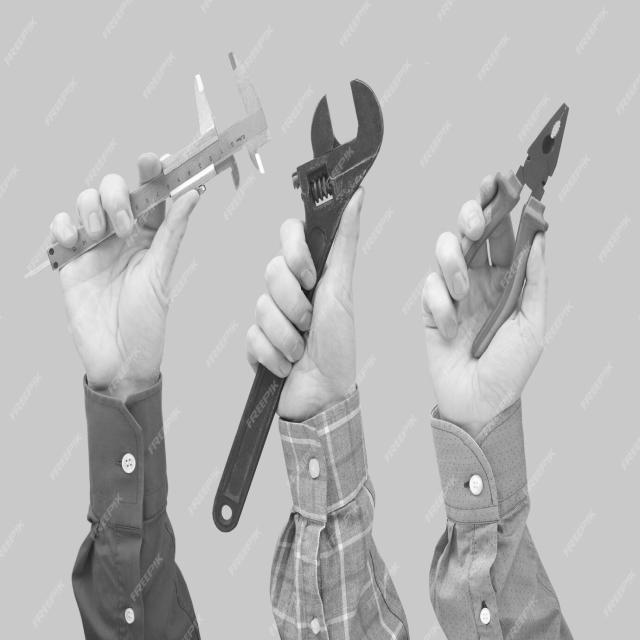pliers: (444, 84, 584, 399)
vernier_caliper: (8, 36, 279, 288)
wrench: (194, 80, 393, 569)
